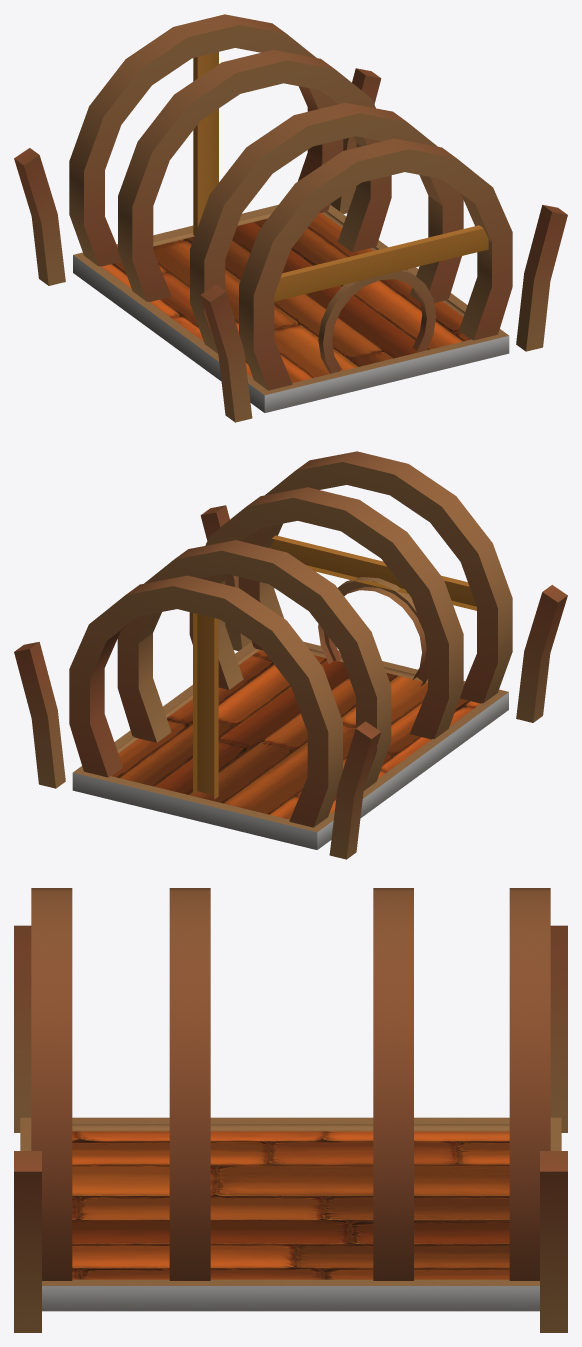
Rendered from VikingHouse_05_L.fbx.
3 renders of one model, top to bottom at view 1: azimuth 30°, elevation 25°; view 2: azimuth 150°, elevation 25°; view 3: azimuth 270°, elevation 25°, orthographic. The views are drawn at different scales.
Parts seen in each view (by area): view 1: VikingHouse_05_L; view 2: VikingHouse_05_L; view 3: VikingHouse_05_L.
Part boxes in pixels (box(x1,y1,x2,y2)): VikingHouse_05_L: box(14, 14, 567, 422); VikingHouse_05_L: box(14, 451, 567, 859); VikingHouse_05_L: box(14, 888, 567, 1332).
Bounding box in the file's own units: 418 × 252 × 398.
1 material, 1 textured.
